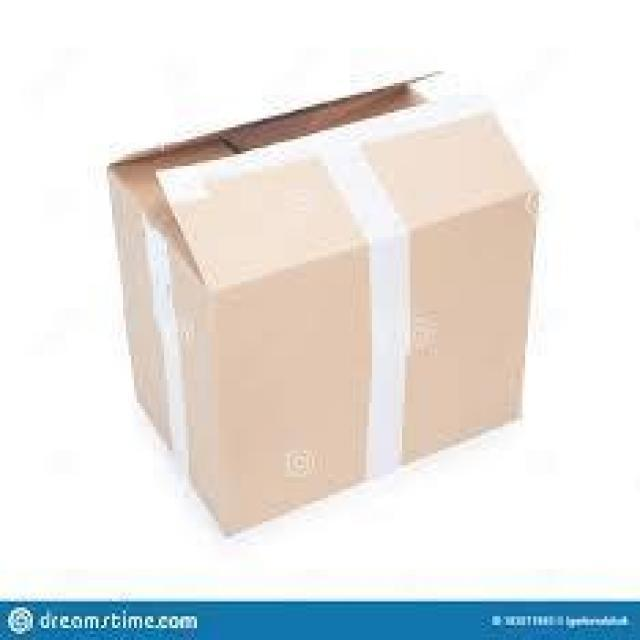box: (101, 68, 539, 533)
